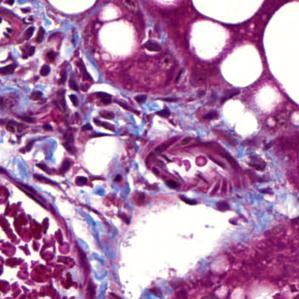steatosis: (218, 43, 268, 88)
